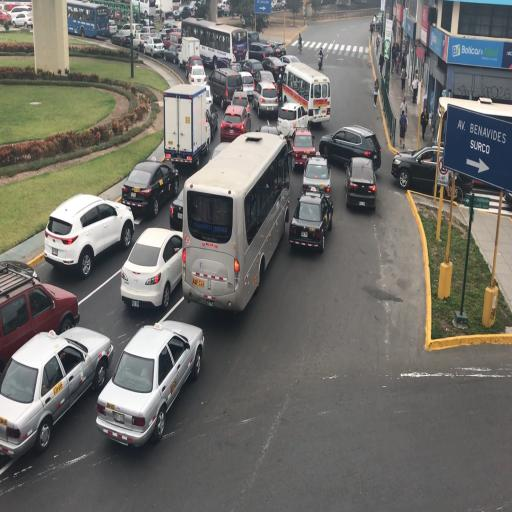auto: (0, 326, 113, 460), (96, 320, 203, 445), (1, 259, 78, 381), (44, 190, 133, 276), (119, 227, 185, 310), (392, 144, 484, 200), (122, 158, 179, 217), (321, 124, 377, 172), (288, 191, 332, 252), (344, 156, 375, 212), (302, 153, 330, 198), (290, 126, 316, 170), (278, 100, 307, 139), (221, 104, 250, 142), (254, 78, 278, 118), (270, 118, 294, 154), (261, 55, 287, 87), (241, 56, 267, 86), (234, 68, 256, 102), (230, 88, 254, 118), (248, 41, 276, 63), (142, 35, 165, 58), (164, 32, 182, 60), (128, 26, 146, 50), (187, 55, 205, 78), (12, 11, 33, 27), (258, 124, 280, 139), (269, 40, 287, 58), (187, 0, 204, 18), (122, 22, 139, 38), (139, 23, 156, 38), (281, 54, 299, 65), (172, 7, 182, 20), (222, 1, 231, 15)
bus: (163, 83, 213, 171)
camion: (318, 50, 324, 70), (298, 33, 302, 52)
moto: (182, 131, 284, 306), (280, 59, 329, 126), (181, 18, 238, 70), (68, 1, 110, 38), (131, 0, 158, 22)
